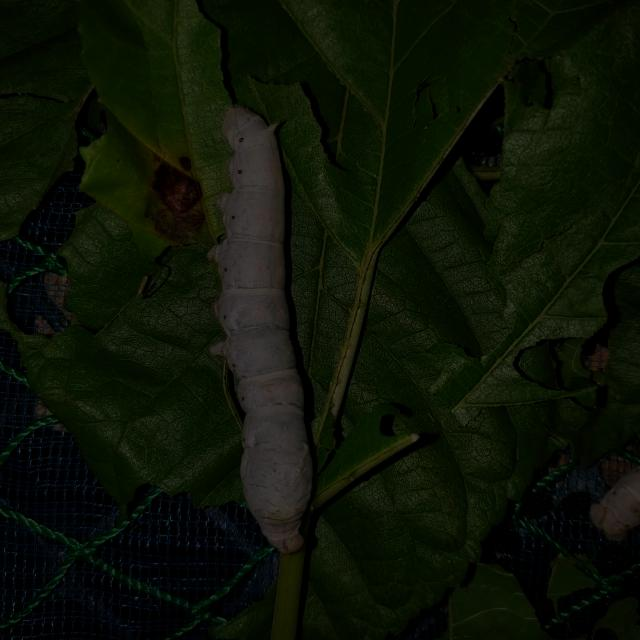Healthy: (198, 95, 352, 554)
